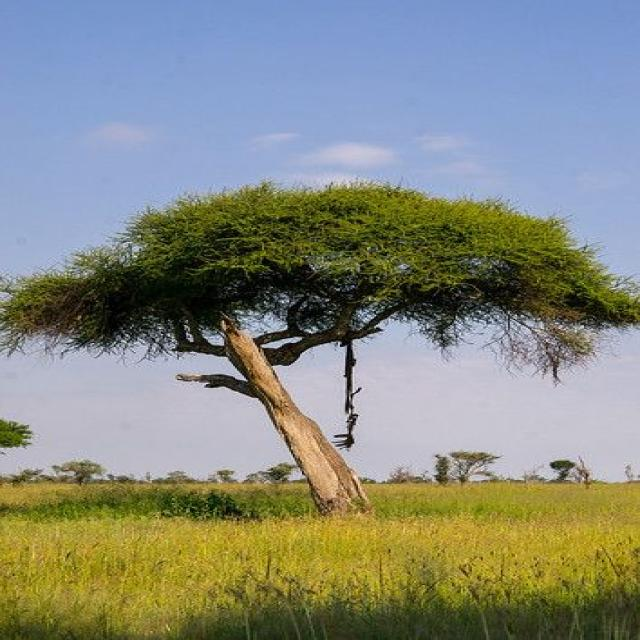Acacia: (8, 142, 610, 486)
